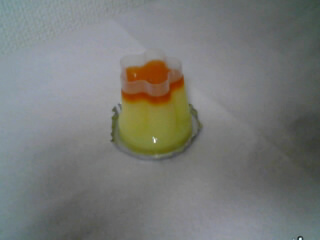001_classes: (103, 46, 213, 162)
